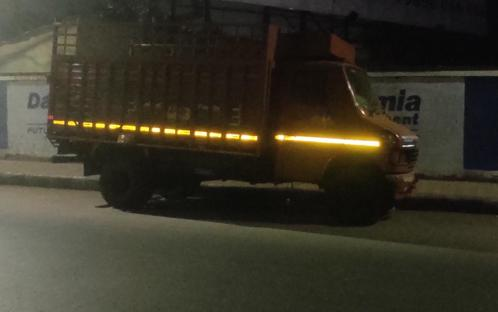Truck: (42, 12, 430, 222)
